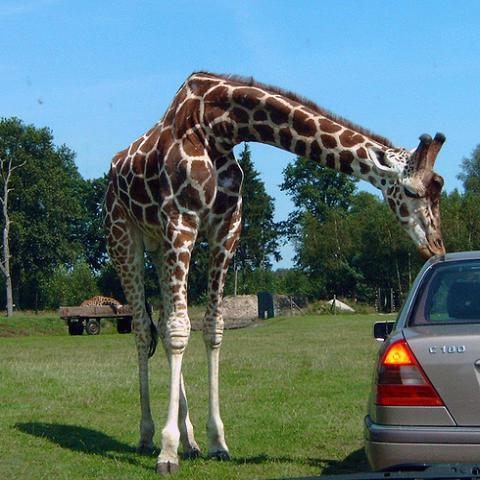car: (364, 250, 479, 472)
truck: (60, 306, 130, 337)
